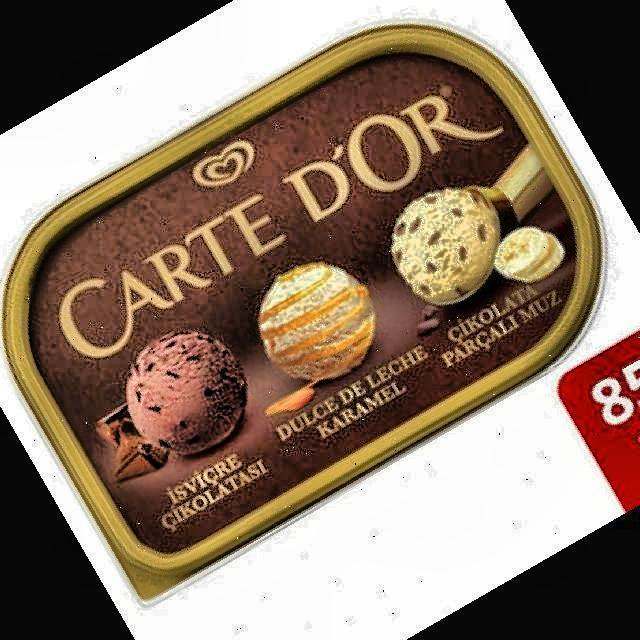plastic: (4, 25, 601, 597)
